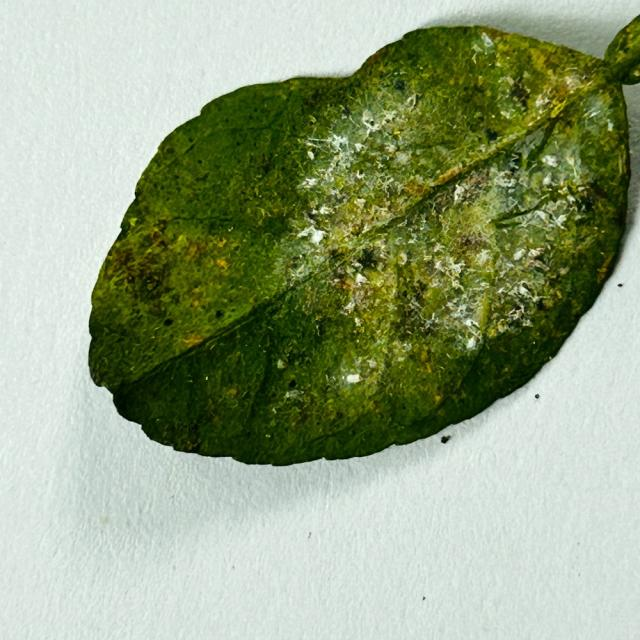Bacterial_Blight: (260, 338, 338, 426), (326, 174, 407, 245), (111, 233, 181, 314), (136, 266, 197, 316), (333, 256, 385, 311), (238, 149, 290, 196), (447, 227, 492, 268), (309, 180, 355, 218), (448, 169, 493, 206), (508, 80, 531, 107), (258, 151, 276, 176), (183, 422, 201, 446), (148, 229, 168, 248), (333, 274, 354, 292), (148, 301, 164, 317)
Lemon: (86, 16, 639, 470)
